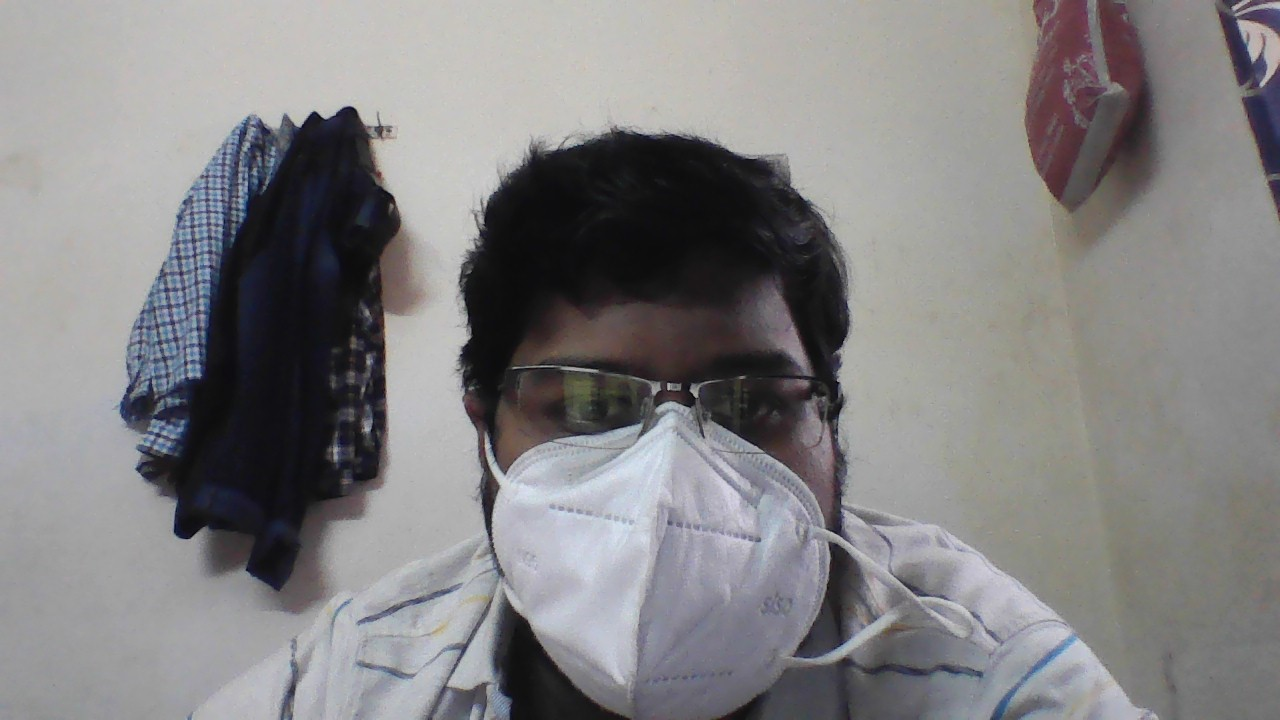NoMask: (459, 396, 1007, 720)
